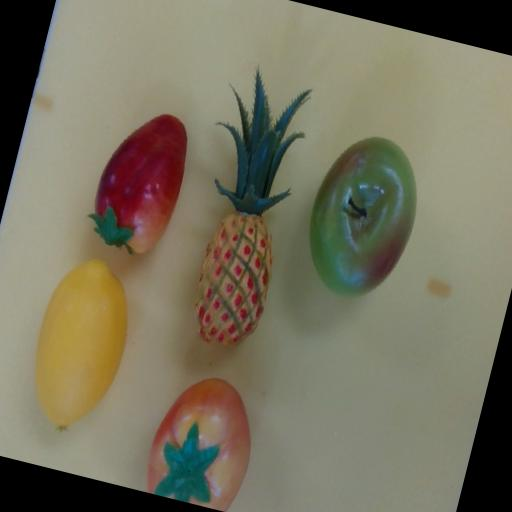apple: (296, 127, 431, 306)
lemon: (17, 250, 144, 439)
mango: (80, 100, 206, 262)
pineapple: (171, 63, 317, 352)
tomato: (140, 366, 268, 512)
